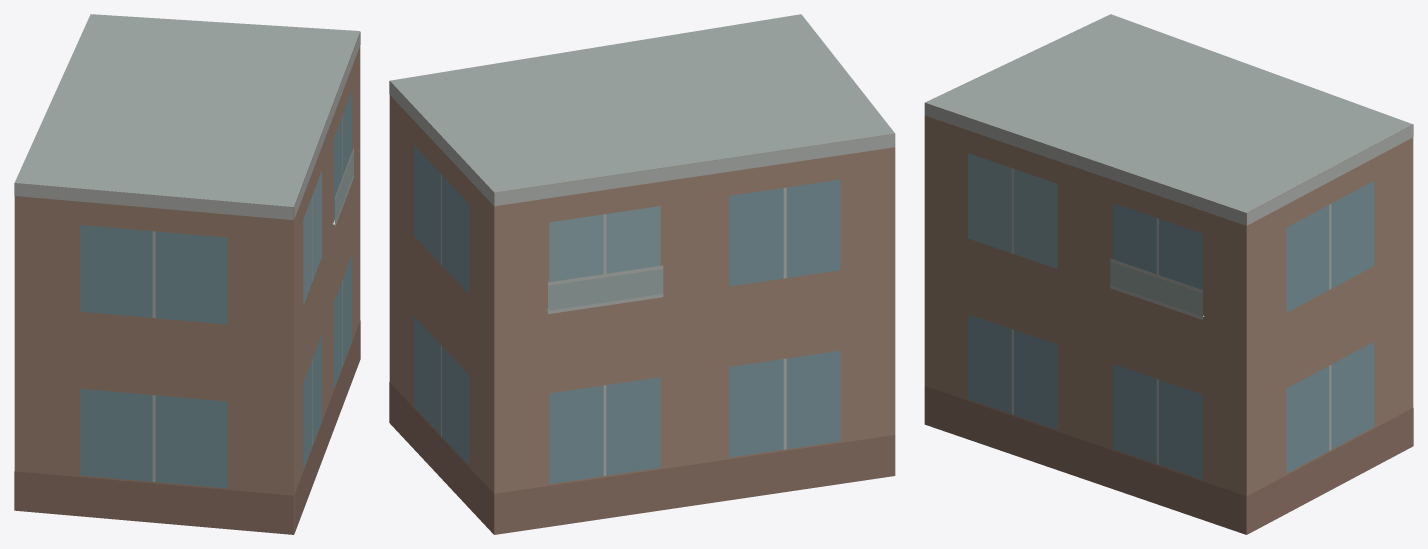
Rendered from survey-upis-32818181.glb.
3 views of the same model, side by side, from view 1: azimuth 30°, elevation 25°; view 2: azimuth 150°, elevation 25°; view 3: azimuth 270°, elevation 25° (orthographic). The views are drawn at different scales.
Visible parts, largest first — view 1: survey-upis-32818181.tmp; view 2: survey-upis-32818181.tmp; view 3: survey-upis-32818181.tmp.
Part boxes in pixels (x1,y1,x2,y2): survey-upis-32818181.tmp: [14, 14, 360, 534]; survey-upis-32818181.tmp: [389, 14, 895, 534]; survey-upis-32818181.tmp: [924, 14, 1413, 534].
Bounding box in the file's own units: 8.1 × 6.1 × 8.4.
